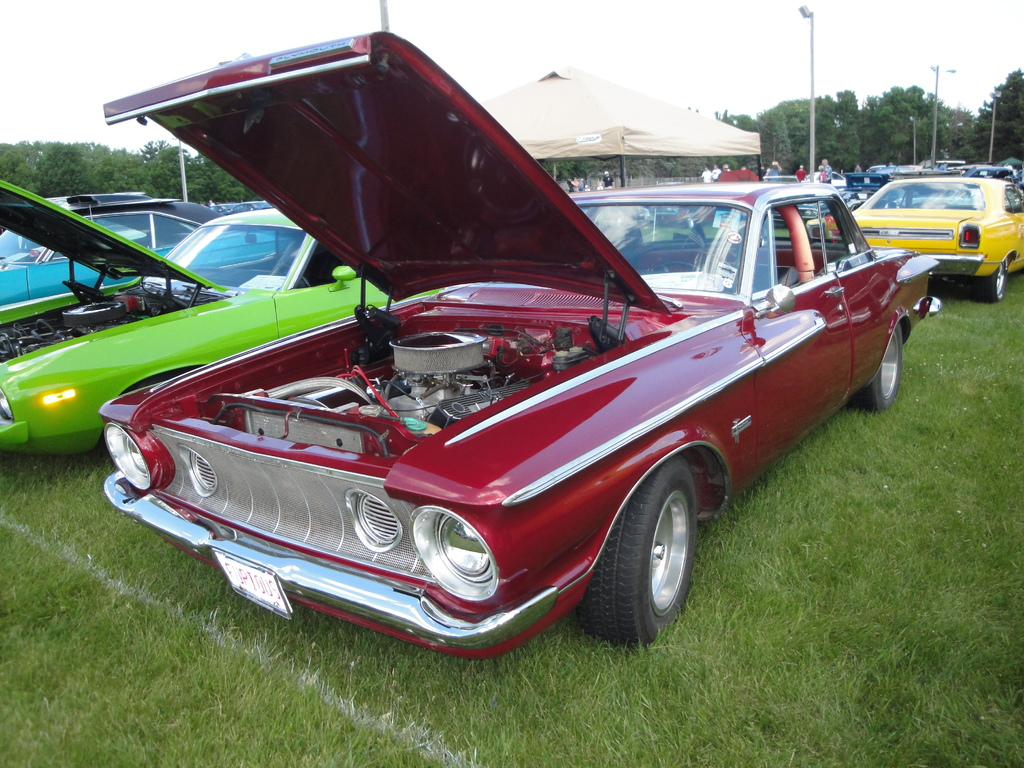mobil: (206, 181, 885, 659)
